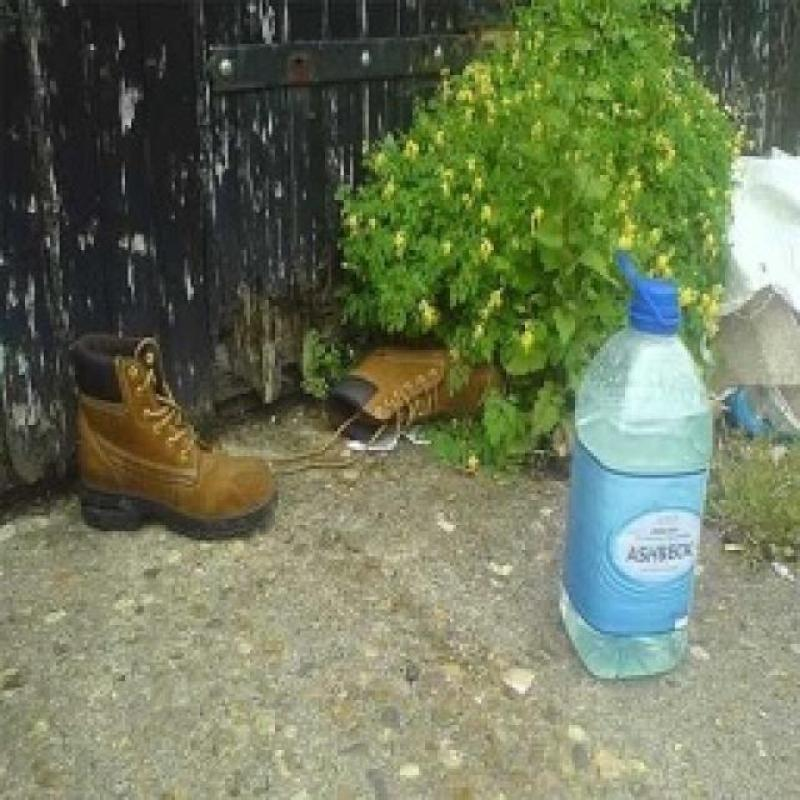botella: (567, 282, 711, 680)
